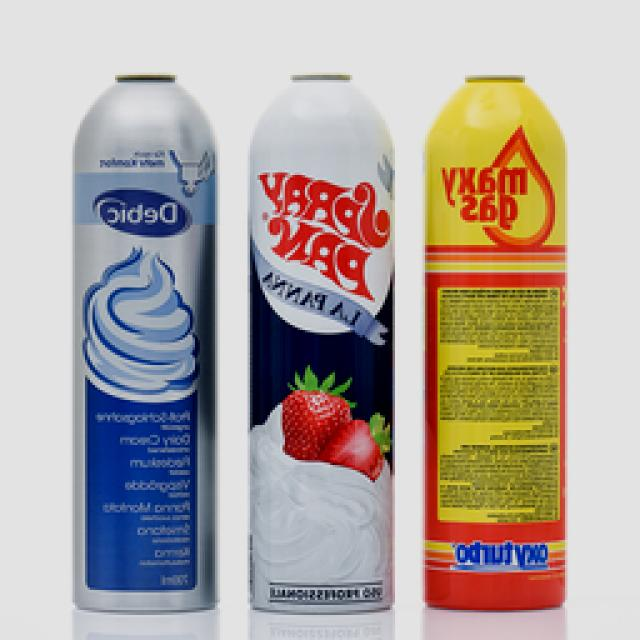B3: (420, 66, 572, 623), (254, 75, 396, 621), (78, 77, 218, 616)
